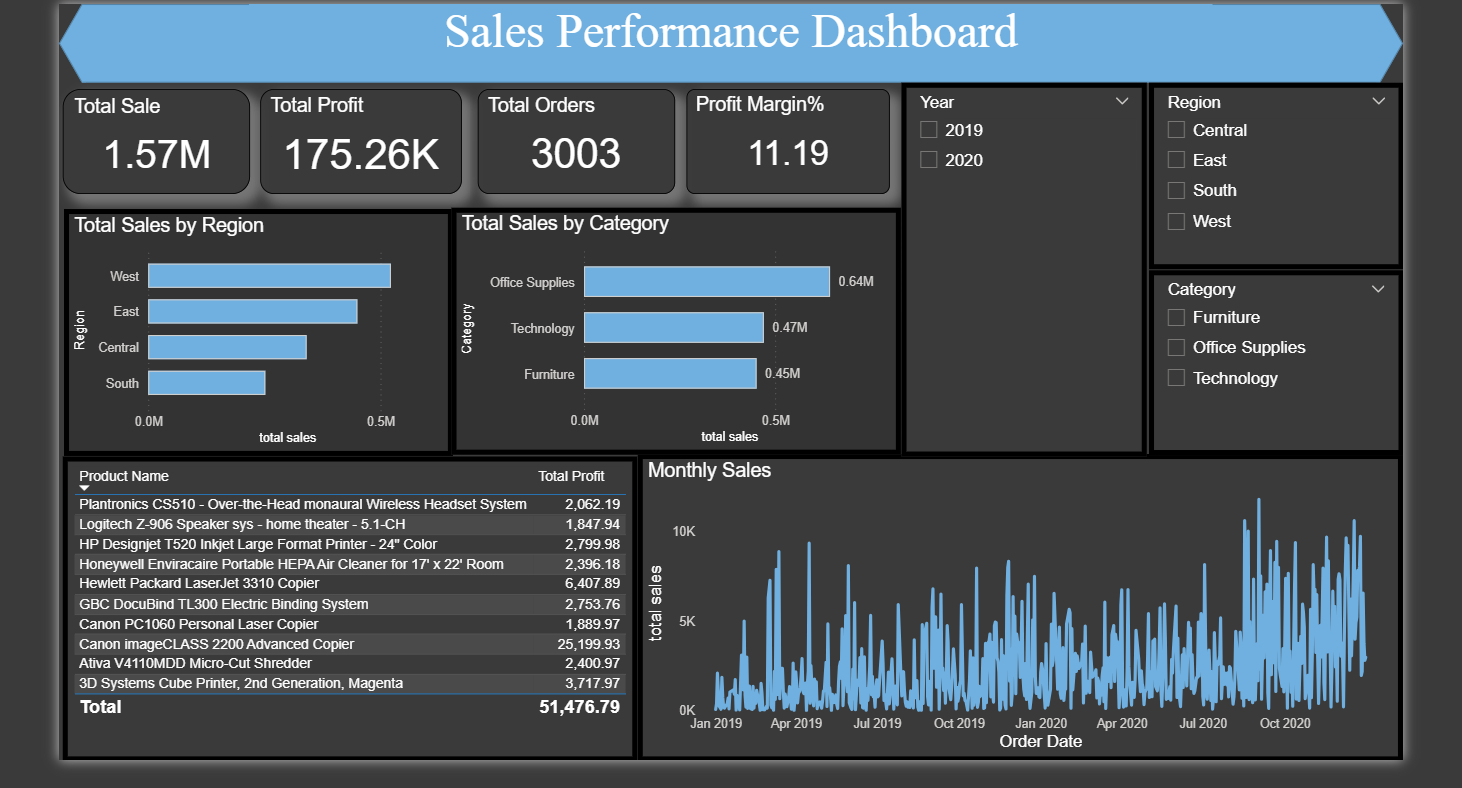

The dashboard page shown, as its layout file describes it:
{"tool":"powerbi","page":{"name":"Page 1","canvas":[1280,720],"ordinal":0},"visuals":[{"type":"card","title":"Total Sale","fields":{"Values":["Sheet1.total sales"]},"box":[3.8,81.2,178.8,100],"z":0},{"type":"card","title":"Total Profit","fields":{"Values":["Sheet1.Total Profit"]},"box":[192.1,81,192.1,100.2],"z":1000},{"type":"card","title":"Total Orders","fields":{"Values":["Sheet1.Total Orders"]},"box":[399.3,81,188,100.2],"z":2000},{"type":"card","title":"Profit Margin%","fields":{"Values":["Sheet1.Profit Margin%"]},"box":[597.5,81.2,193.8,100],"z":3000},{"type":"lineChart","title":"Monthly Sales","fields":{"Y":["Sheet1.total sales"],"Category":["Sheet1.Order Date"]},"box":[551.2,428.8,728.8,292.5],"z":4000},{"type":"barChart","title":"Total Sales by Region","fields":{"Y":["Sheet1.total sales"],"Category":["Sheet1.Region"]},"box":[4.2,194.8,370.1,235.1],"z":5000},{"type":"barChart","title":"Total Sales by Category","fields":{"Category":["Sheet1.Category"],"Y":["Sheet1.total sales"]},"box":[374.2,194.5,428.3,235.1],"z":6000},{"type":"tableEx","fields":{"Values":["Sheet1.Product Name","Sheet1.Total Profit"]},"box":[3.8,431.2,547.5,290],"z":7000},{"type":"shape","box":[0,0,1280,75],"z":8000},{"type":"textbox","title":"Sales Performance Dashboard","box":[181.2,0,917.5,45],"z":9000},{"type":"slicer","fields":{"Values":["Sheet1.Order Date.Variation.Date Hierarchy.Year"]},"box":[802.5,75,233.8,356.2],"z":10000},{"type":"slicer","fields":{"Values":["Sheet1.Region"]},"box":[1037.5,75,242.5,177.5],"z":11000},{"type":"slicer","fields":{"Values":["Sheet1.Category"]},"box":[1038,253,242,176],"z":12000}]}

Visuals, with their boxes in screenshot pixels (x1, y1, x2, y2):
"Total Sale" card: bbox=[69, 85, 255, 189]
"Total Profit" card: bbox=[265, 84, 465, 189]
"Total Orders" card: bbox=[480, 84, 676, 189]
"Profit Margin%" card: bbox=[687, 85, 889, 189]
"Monthly Sales" lineChart: bbox=[639, 446, 1397, 751]
"Total Sales by Region" barChart: bbox=[69, 203, 454, 448]
"Total Sales by Category" barChart: bbox=[454, 203, 900, 447]
tableEx - Sheet1.Product Name x Sheet1.Total Profit: bbox=[69, 449, 639, 751]
shape: bbox=[65, 0, 1397, 78]
"Sales Performance Dashboard" textbox: bbox=[253, 0, 1209, 47]
slicer - Sheet1.Order Date.Variation.Date Hierarchy.Year: bbox=[900, 78, 1144, 449]
slicer - Sheet1.Region: bbox=[1145, 78, 1397, 263]
slicer - Sheet1.Category: bbox=[1145, 263, 1397, 447]
